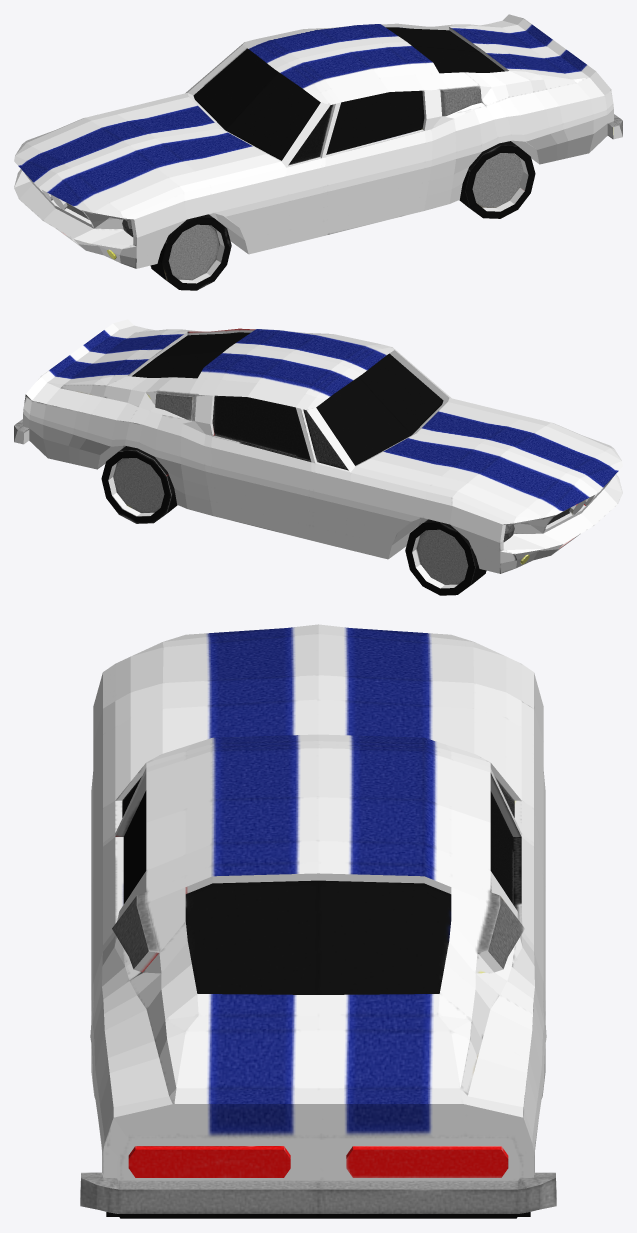
The model's file is car.glb.
3 renders of one model, top to bottom at view 1: azimuth 30°, elevation 25°; view 2: azimuth 150°, elevation 25°; view 3: azimuth 270°, elevation 25°, orthographic. The views are drawn at different scales.
Visible parts, largest first — view 1: Car_1; view 2: Car_1; view 3: Car_1.
Part boxes in pixels (x1,y1,x2,y2): Car_1: (14,14,622,290); Car_1: (14,319,622,595); Car_1: (80,624,556,1218).
Bounding box in the file's own units: 3.22 × 0.9147 × 1.25.
Materials: 1 (1 with a texture image).
